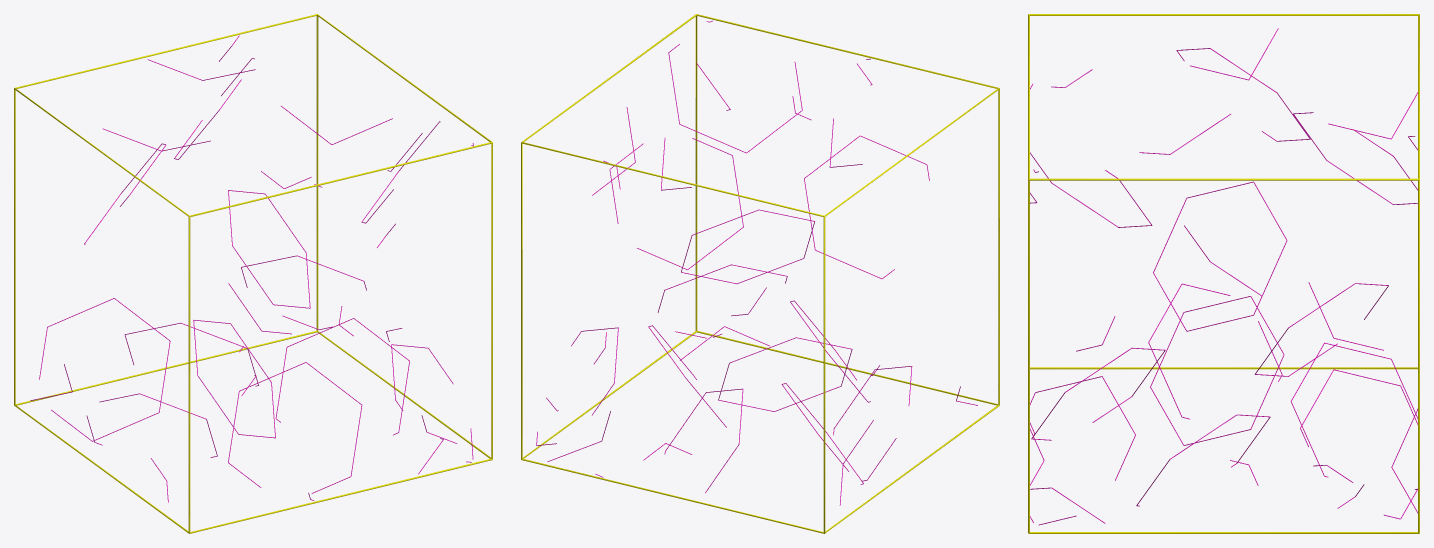
File: DDD000.glb
The picture shows the model from 3 angles, left to right: view 1: azimuth 30°, elevation 25°; view 2: azimuth 150°, elevation 25°; view 3: azimuth 270°, elevation 25°; orthographic projection. The views are drawn at different scales.
Visible parts, largest first — view 1: Shape_IndexedLineSet, Shape_IndexedLineSet.001; view 2: Shape_IndexedLineSet, Shape_IndexedLineSet.001; view 3: Shape_IndexedLineSet.001, Shape_IndexedLineSet.
Part boxes in pixels (box(x1,y1,x2,y2)): Shape_IndexedLineSet: box(14, 14, 492, 533); Shape_IndexedLineSet.001: box(30, 35, 473, 502); Shape_IndexedLineSet: box(521, 14, 999, 533); Shape_IndexedLineSet.001: box(536, 20, 977, 505); Shape_IndexedLineSet.001: box(1030, 28, 1417, 525); Shape_IndexedLineSet: box(1028, 14, 1419, 533).
Bounding box in the file's own units: 10.05 × 10.05 × 10.05.
